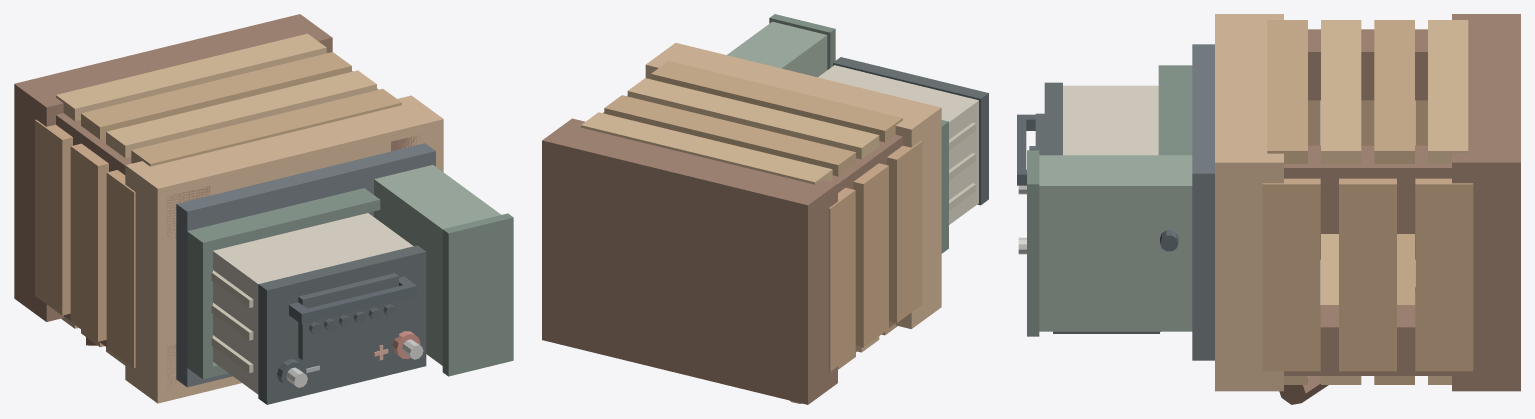
Rendered from 15_battery_charger.glb.
3 renders of one model, left to right at view 1: azimuth 30°, elevation 25°; view 2: azimuth 150°, elevation 25°; view 3: azimuth 270°, elevation 25°, orthographic. The views are drawn at different scales.
Visible parts, largest first — view 1: charger_stand_lid_0050, leadacid_lid_0021, charger_stand_bottom_0049, leadacid_case_0020, charger_body_cap_0010, charger_tray_0001, charger_body_0009, charger_stand_side_plank_0060, charger_stand_front_back_plank_0057, charger_stand_front_back_plank_0056, charger_stand_side_plank_0059, charger_stand_front_back_plank_0055 (+10 smaller); view 2: charger_stand_bottom_0049, charger_stand_lid_0050, charger_stand_side_plank_0060, charger_stand_side_plank_0061, charger_stand_front_back_plank_0057, charger_stand_front_back_plank_0056, charger_stand_front_back_plank_0058, leadacid_case_0020, charger_stand_front_back_plank_0055, charger_stand_side_plank_0059, charger_body_0009, charger_stand_metal_corner_0068 (+5 smaller); view 3: charger_body_0009, charger_stand_bottom_0049, charger_stand_lid_0050, charger_stand_side_plank_0062, charger_stand_side_plank_0064, charger_stand_side_plank_0063, charger_tray_0001, leadacid_case_0020, charger_stand_front_back_plank_0056, charger_stand_front_back_plank_0057, charger_stand_front_back_plank_0055, charger_stand_front_back_plank_0058 (+14 smaller).
Part boxes in pixels (left/top/right/bottom): charger_stand_lid_0050: left=125, top=95, right=443, bottom=403; leadacid_lid_0021: left=258, top=245, right=426, bottom=404; charger_stand_bottom_0049: left=14, top=14, right=332, bottom=321; leadacid_case_0020: left=213, top=213, right=413, bottom=394; charger_body_cap_0010: left=442, top=213, right=513, bottom=376; charger_tray_0001: left=176, top=143, right=435, bottom=387; charger_body_0009: left=374, top=165, right=501, bottom=365; charger_stand_side_plank_0060: left=70, top=143, right=108, bottom=341; charger_stand_front_back_plank_0057: left=106, top=70, right=376, bottom=157; charger_stand_front_back_plank_0056: left=81, top=52, right=351, bottom=139; charger_stand_side_plank_0059: left=35, top=119, right=72, bottom=315; charger_stand_front_back_plank_0055: left=56, top=33, right=326, bottom=120; charger_stand_bottom_0049: left=542, top=118, right=837, bottom=404; charger_stand_lid_0050: left=645, top=42, right=941, bottom=328; charger_stand_side_plank_0060: left=853, top=163, right=888, bottom=347; charger_stand_side_plank_0061: left=887, top=141, right=922, bottom=322; charger_stand_front_back_plank_0057: left=627, top=78, right=879, bottom=159; charger_stand_front_back_plank_0056: left=604, top=95, right=855, bottom=176; charger_stand_front_back_plank_0058: left=651, top=61, right=902, bottom=142; leadacid_case_0020: left=818, top=65, right=978, bottom=224; charger_stand_front_back_plank_0055: left=581, top=112, right=832, bottom=184; charger_stand_side_plank_0059: left=828, top=187, right=855, bottom=371; charger_body_0009: left=727, top=21, right=827, bottom=77; charger_stand_metal_corner_0068: left=759, top=135, right=902, bottom=254; charger_body_0009: left=1039, top=155, right=1192, bottom=331; charger_stand_bottom_0049: left=1452, top=14, right=1520, bottom=391; charger_stand_lid_0050: left=1215, top=14, right=1283, bottom=391; charger_stand_side_plank_0062: left=1415, top=178, right=1473, bottom=371; charger_stand_side_plank_0064: left=1262, top=178, right=1320, bottom=371; charger_stand_side_plank_0063: left=1339, top=178, right=1396, bottom=371; charger_tray_0001: left=1192, top=44, right=1214, bottom=360; leadacid_case_0020: left=1063, top=85, right=1158, bottom=155; charger_stand_front_back_plank_0056: left=1374, top=20, right=1414, bottom=163; charger_stand_front_back_plank_0057: left=1321, top=20, right=1361, bottom=163; charger_stand_front_back_plank_0055: left=1428, top=20, right=1468, bottom=163; charger_stand_front_back_plank_0058: left=1267, top=20, right=1307, bottom=163.
Size of the model in its own units: 0.465 by 0.384 by 0.659.
